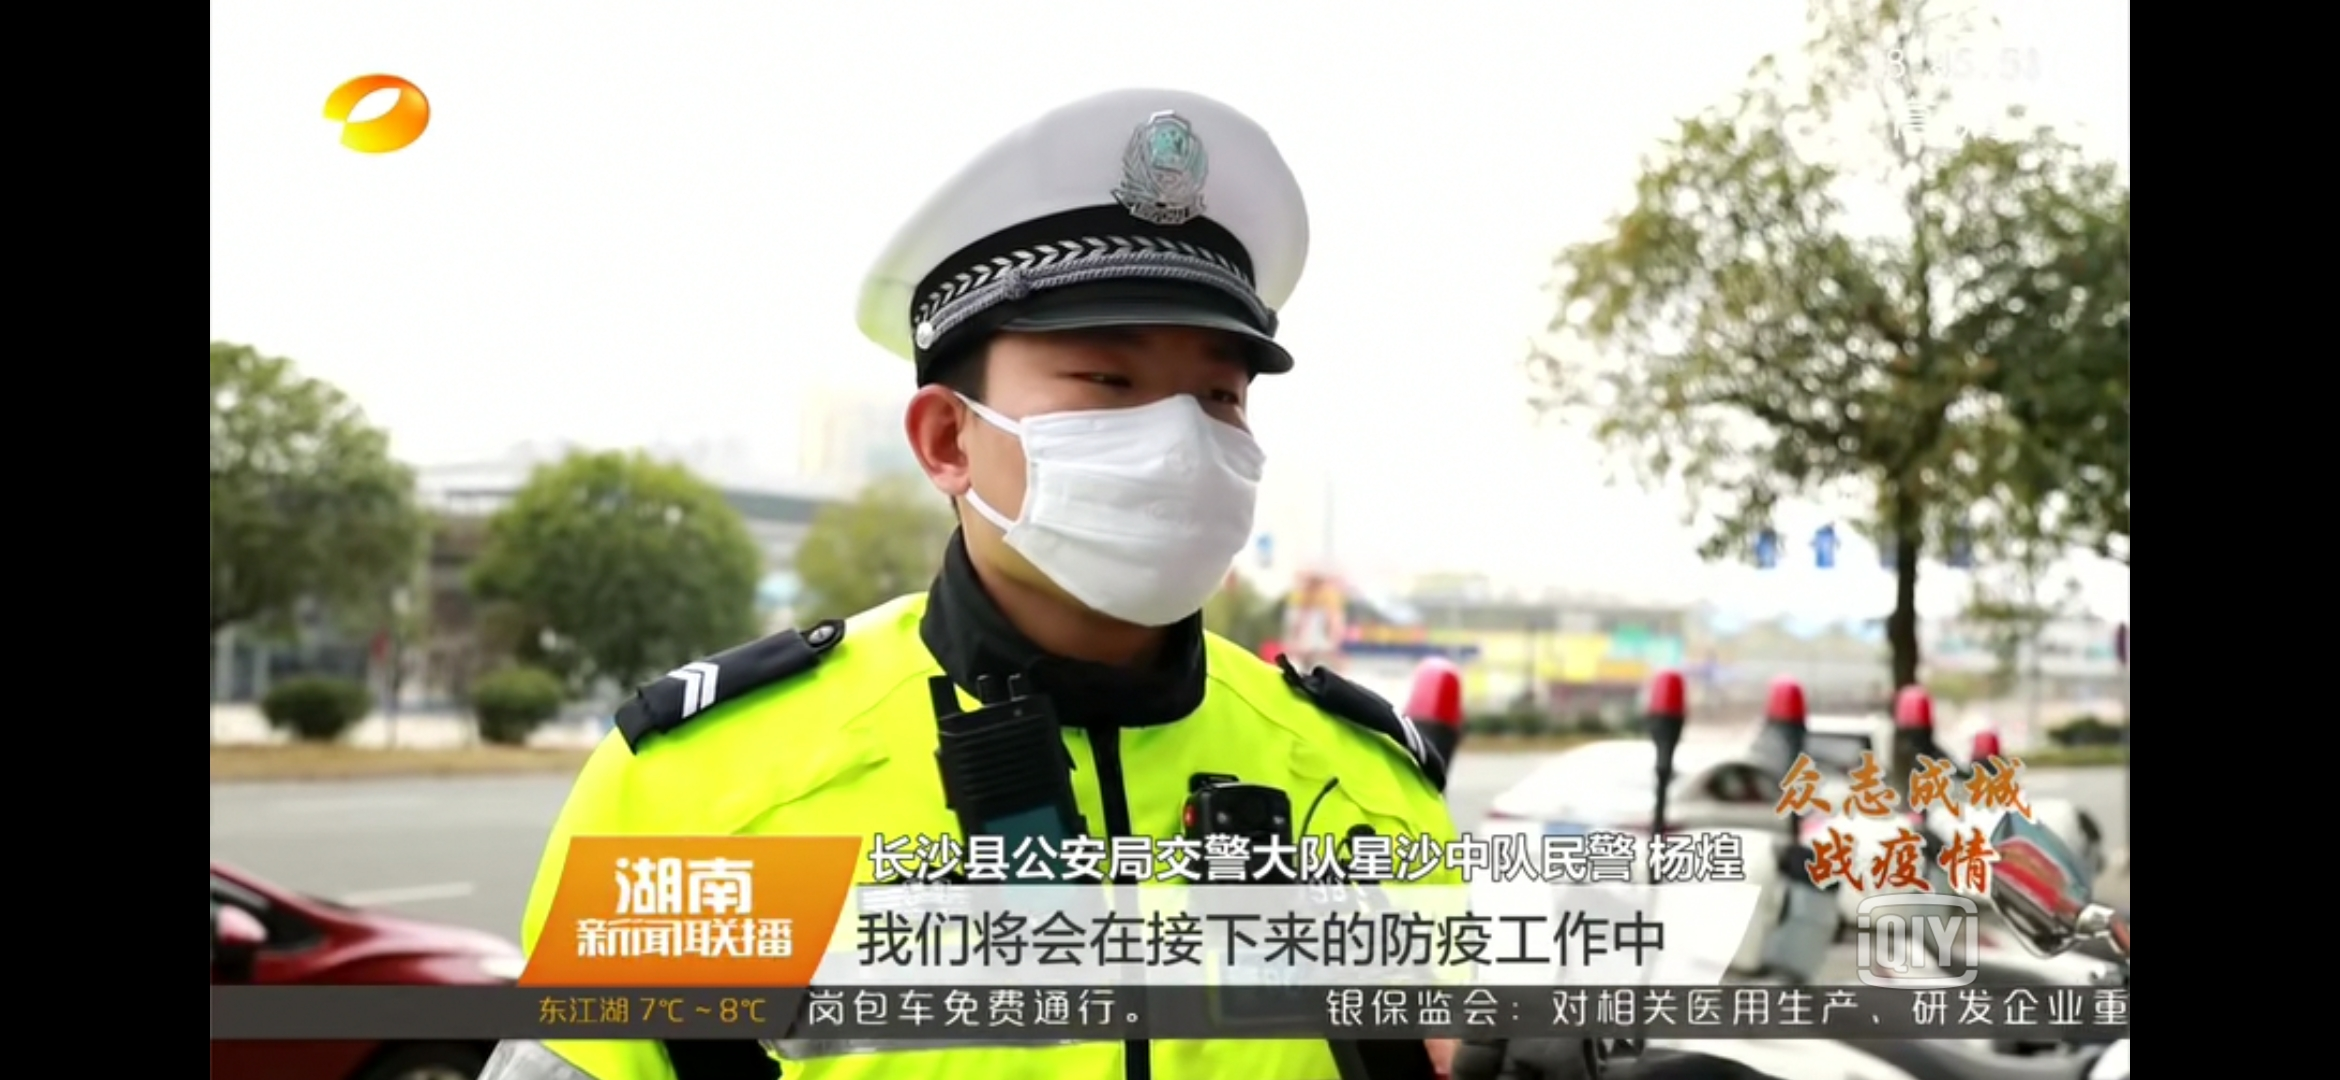correctlyWear: (904, 336, 1266, 622)
